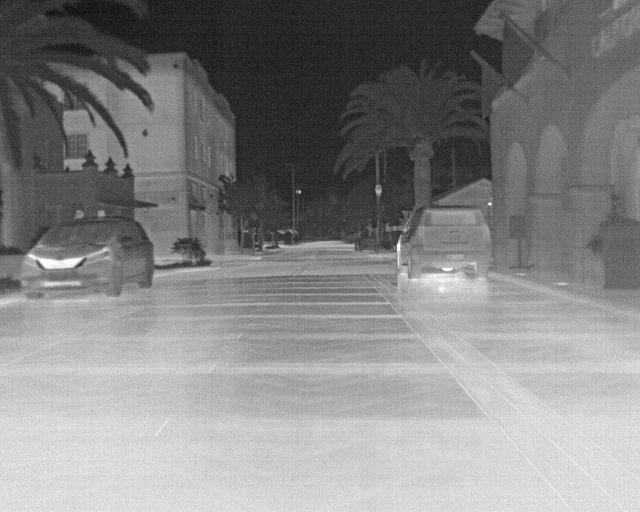car: (19, 215, 157, 300), (395, 205, 495, 280)
